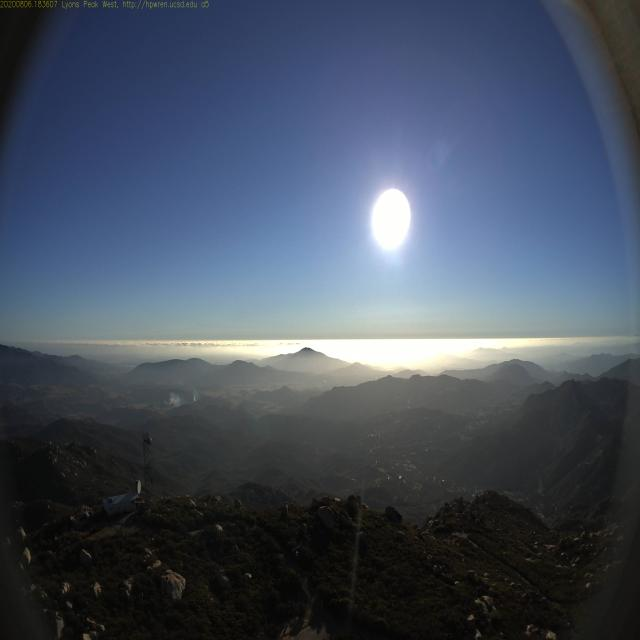smoke: (161, 386, 187, 414), (191, 384, 199, 404)
